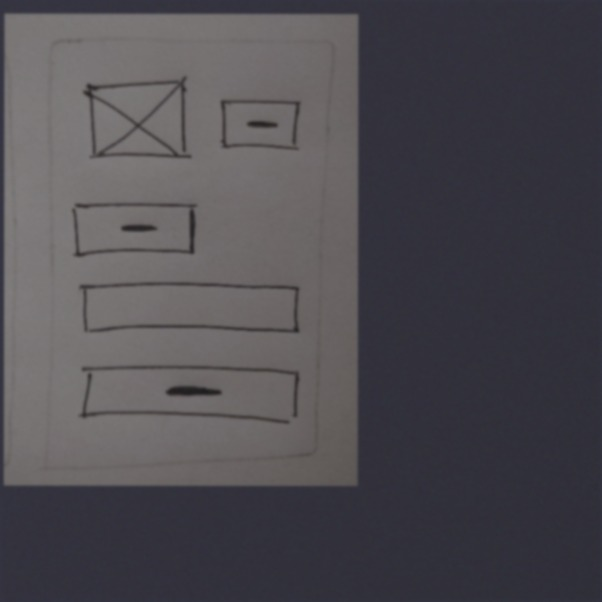button: (72, 359, 302, 434), (65, 199, 200, 265), (216, 96, 304, 156)
image: (78, 74, 197, 167)
text_input: (74, 278, 306, 342)
